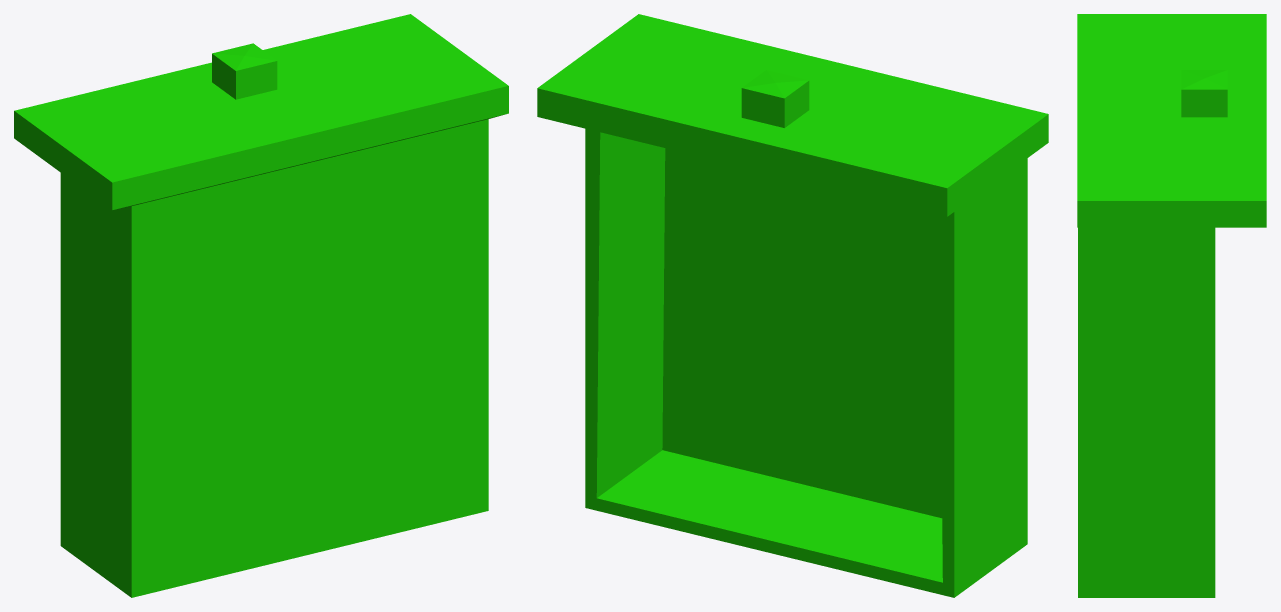
File: SM_Shelf_02_Door_02_Collider.fbx
3 renders of one model, left to right at view 1: azimuth 30°, elevation 25°; view 2: azimuth 150°, elevation 25°; view 3: azimuth 270°, elevation 25°, orthographic. The views are drawn at different scales.
Parts seen in each view (by area): view 1: SM_Shelf_02_Door_02_Collider; view 2: SM_Shelf_02_Door_02_Collider; view 3: SM_Shelf_02_Door_02_Collider.
Boxes of the visible parts, <box> form: SM_Shelf_02_Door_02_Collider: <box>14,14,508,597</box>; SM_Shelf_02_Door_02_Collider: <box>537,14,1048,597</box>; SM_Shelf_02_Door_02_Collider: <box>1077,14,1266,597</box>.
Bounding box in the file's own units: 65.66 × 71.29 × 28.13.
